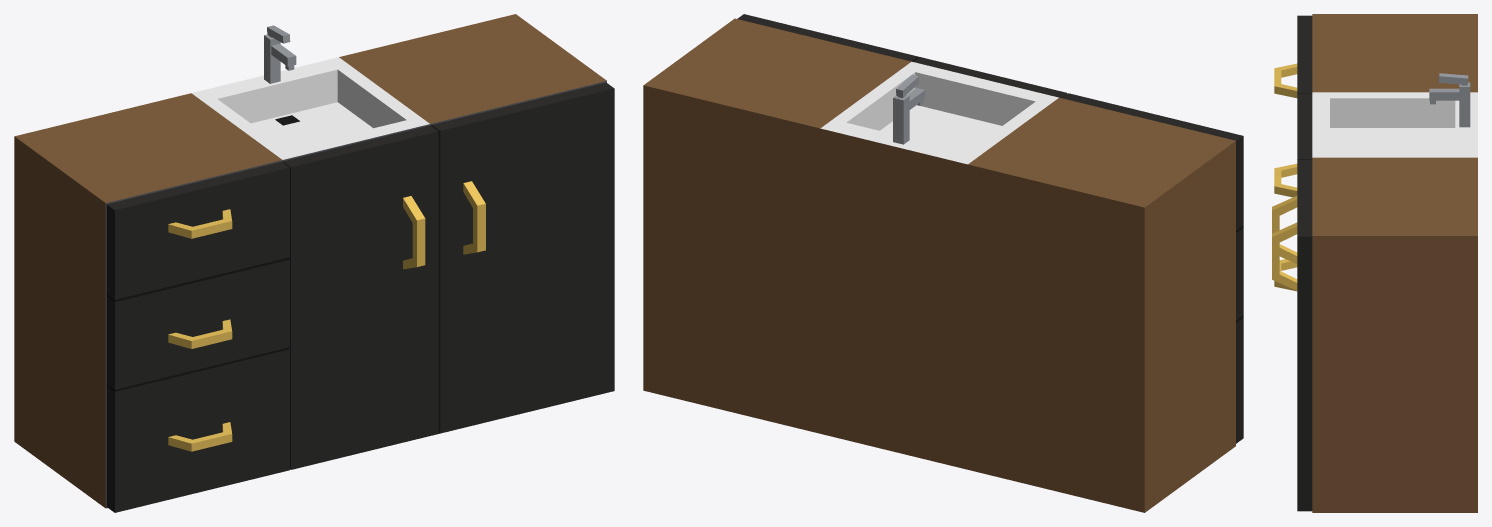
The model's file is Bath_Wash_basin_1B.fbx.
The picture shows the model from 3 angles, left to right: view 1: azimuth 30°, elevation 25°; view 2: azimuth 150°, elevation 25°; view 3: azimuth 270°, elevation 25°; orthographic projection. The views are drawn at different scales.
Visible parts, largest first — view 1: polySurface1855; view 2: polySurface1855; view 3: polySurface1855.
Part boxes in pixels (x1=…): polySurface1855: x1=14, y1=14, x2=614, y2=512; polySurface1855: x1=643, y1=14, x2=1243, y2=512; polySurface1855: x1=1272, y1=14, x2=1477, y2=512.
Size of the model in its own units: 2.21 by 1.52 by 0.8661.
1 material, 1 textured.
